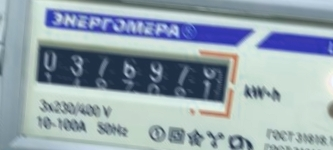0: (42, 49, 59, 73)
1: (201, 79, 212, 102)
3: (70, 55, 85, 77)
6: (122, 56, 139, 80)
7: (175, 62, 192, 86), (96, 54, 112, 78)
9: (149, 60, 165, 83)
screen: (23, 31, 243, 122)
